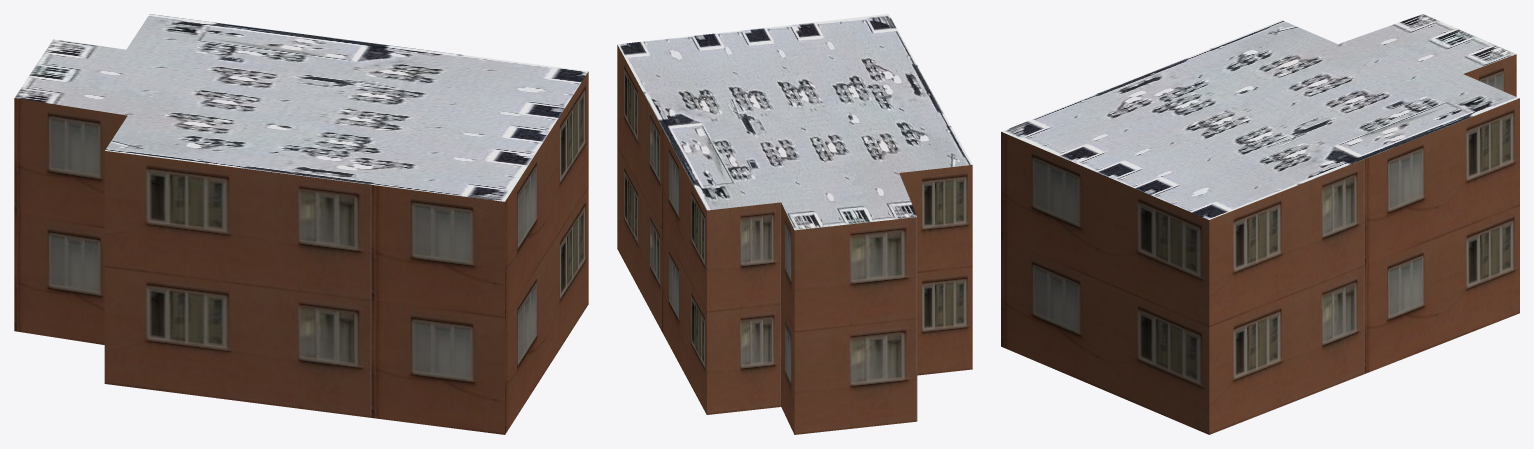
Rendered from ResTex__1258.fbx.
3 views of the same model, side by side, from view 1: azimuth 30°, elevation 25°; view 2: azimuth 150°, elevation 25°; view 3: azimuth 270°, elevation 25° (orthographic). The views are drawn at different scales.
Visible parts, largest first — view 1: CityEngineMaterial_20_m, CityEngineMaterial_m; view 2: CityEngineMaterial_20_m, CityEngineMaterial_m; view 3: CityEngineMaterial_20_m, CityEngineMaterial_m.
Part boxes in pixels (left/top/right/bottom): CityEngineMaterial_20_m: left=14, top=71, right=588, bottom=434; CityEngineMaterial_m: left=14, top=14, right=588, bottom=201; CityEngineMaterial_20_m: left=617, top=45, right=972, bottom=434; CityEngineMaterial_m: left=617, top=14, right=972, bottom=230; CityEngineMaterial_20_m: left=1001, top=54, right=1519, bottom=434; CityEngineMaterial_m: left=1001, top=14, right=1519, bottom=219.
Size of the model in its own units: 12.34 by 6 by 13.12.
Materials: 2 (2 with a texture image).
